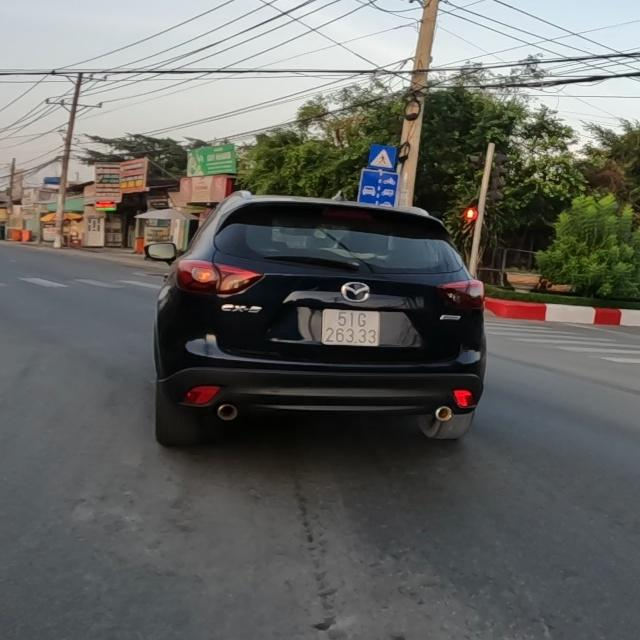license-plate: (319, 307, 382, 348)
